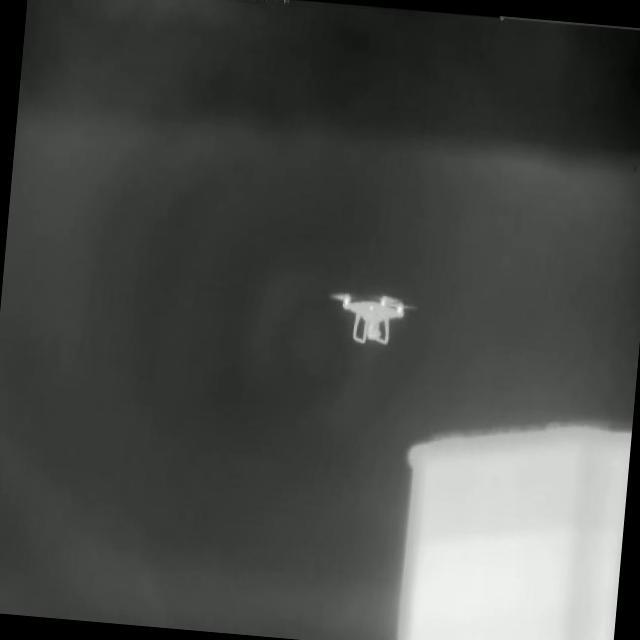DRONE: (324, 287, 419, 346)
